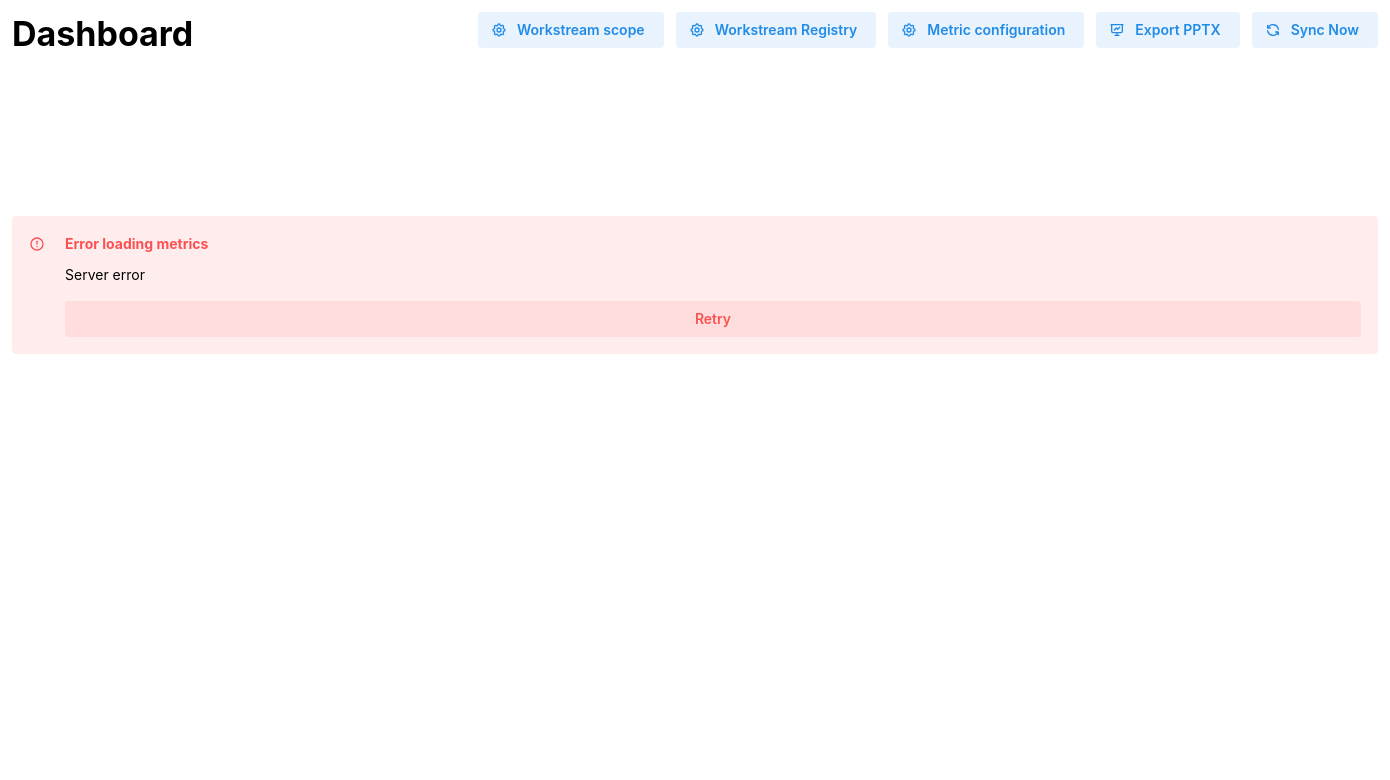
Test: DashboardContainer › shows error state and retry when API fails
Check: the text "Server error" is shown, box [65,266,145,283]
Click the button "Retry".
click(713, 319)  # box [65,301,1361,337]
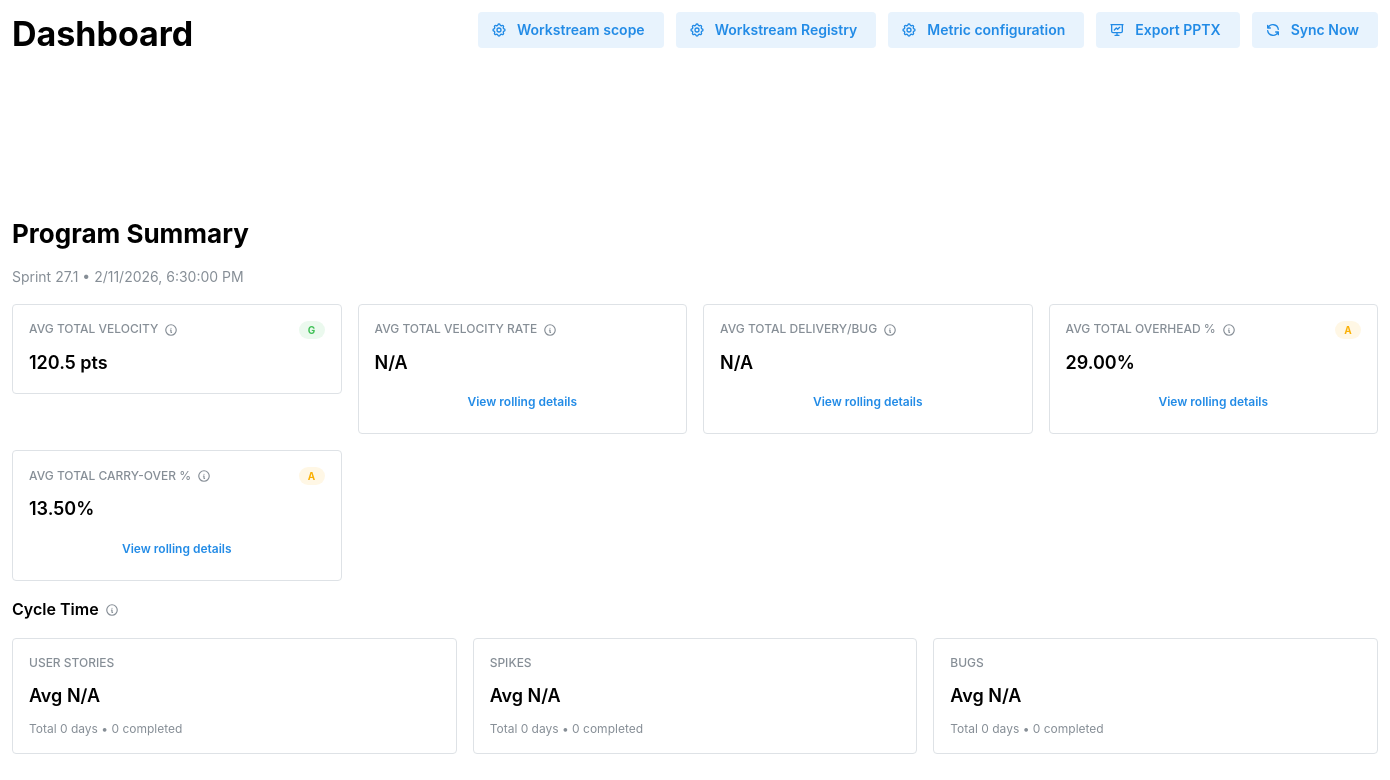
Check: the text "Sprint 27.1 • 2/11/2026, 6:30:00 PM" is shown, box [12,268,244,285]
